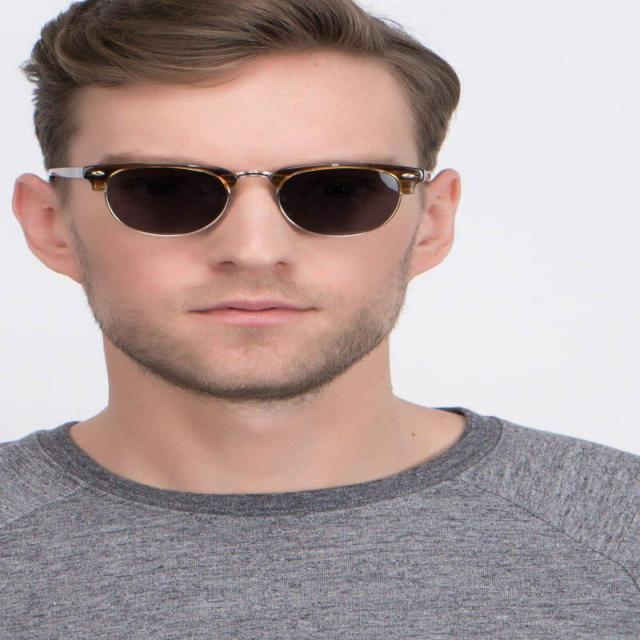2_gafas: (46, 160, 431, 238)
